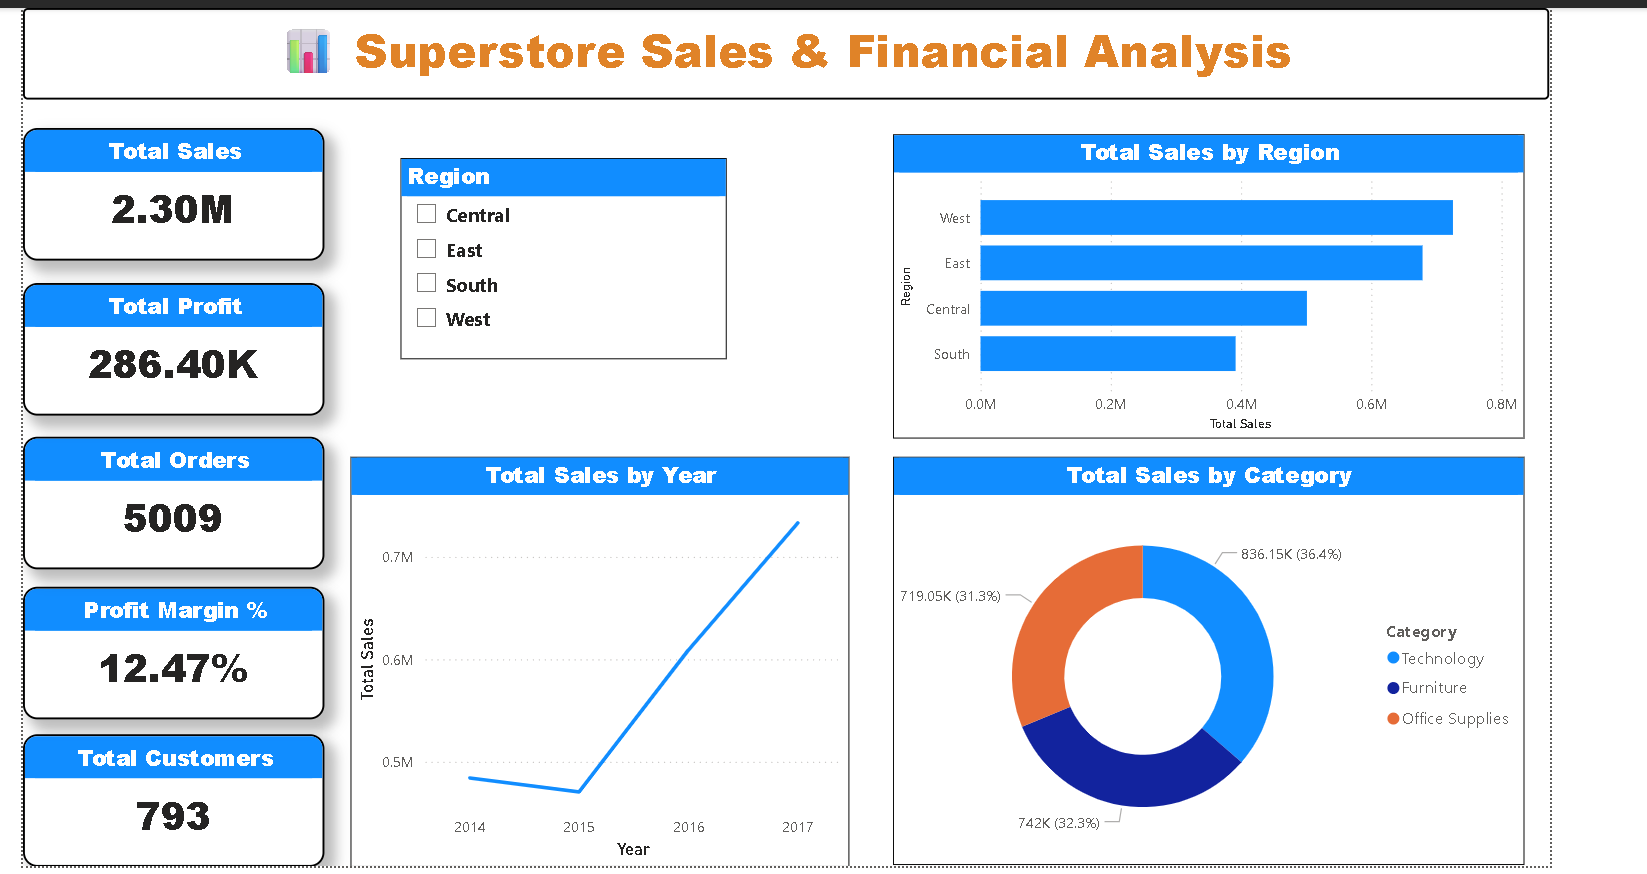

This screenshot's page, from the dashboard's own definition file:
{"tool":"powerbi","page":{"name":"Page 1","canvas":[1280,720],"ordinal":0},"visuals":[{"type":"card","title":"Total Sales","fields":{"Values":["Sample - Superstore.Total Sales"]},"box":[0,101,253.2,110.9],"z":0},{"type":"card","title":"Profit Margin %","fields":{"Values":["Sample - Superstore.Profit Margin %"]},"box":[0,485,253.2,110.9],"z":1000},{"type":"card","title":"Total Orders","fields":{"Values":["Sample - Superstore.Total Orders"]},"box":[0,359.8,253.2,110.9],"z":2000},{"type":"card","title":"Total Profit","fields":{"Values":["Sample - Superstore.Total Profit"]},"box":[0,230.4,253.2,110.9],"z":3000},{"type":"card","title":"Total Customers","fields":{"Values":["Sample - Superstore.Total Customers"]},"box":[0,608.7,253.2,110.9],"z":4000},{"type":"barChart","fields":{"Y":["Sample - Superstore.Total Sales"],"Category":["Sample - Superstore.Region"]},"box":[729.9,105.5,529.7,255.3],"z":5000},{"type":"lineChart","fields":{"Y":["Sample - Superstore.Total Sales"],"Category":["Sample - Superstore.Year"]},"box":[274.5,376.3,418.3,344],"z":6000},{"type":"donutChart","fields":{"Y":["Sample - Superstore.Total Sales"],"Category":["Sample - Superstore.Category"]},"box":[729.9,376.3,529.7,342.8],"z":7000},{"type":"slicer","title":"Region","fields":{"Values":["Sample - Superstore.Region"]},"box":[316.4,125.8,273.3,169],"z":8000},{"type":"textbox","box":[0,0,1280,76.7],"z":9000}]}

Visuals, with their boxes in screenshot pixels (x1, y1, x2, y2):
"Total Sales" card: bbox=[17, 125, 321, 258]
"Profit Margin %" card: bbox=[17, 586, 321, 718]
"Total Orders" card: bbox=[17, 435, 321, 568]
"Total Profit" card: bbox=[17, 280, 321, 413]
"Total Customers" card: bbox=[17, 734, 321, 867]
barChart - Sample - Superstore.Total Sales x Sample - Superstore.Region: bbox=[892, 131, 1527, 437]
lineChart - Sample - Superstore.Total Sales x Sample - Superstore.Year: bbox=[346, 455, 847, 868]
donutChart - Sample - Superstore.Total Sales x Sample - Superstore.Category: bbox=[892, 455, 1527, 866]
"Region" slicer: bbox=[396, 155, 724, 358]
textbox: bbox=[17, 4, 1551, 96]
